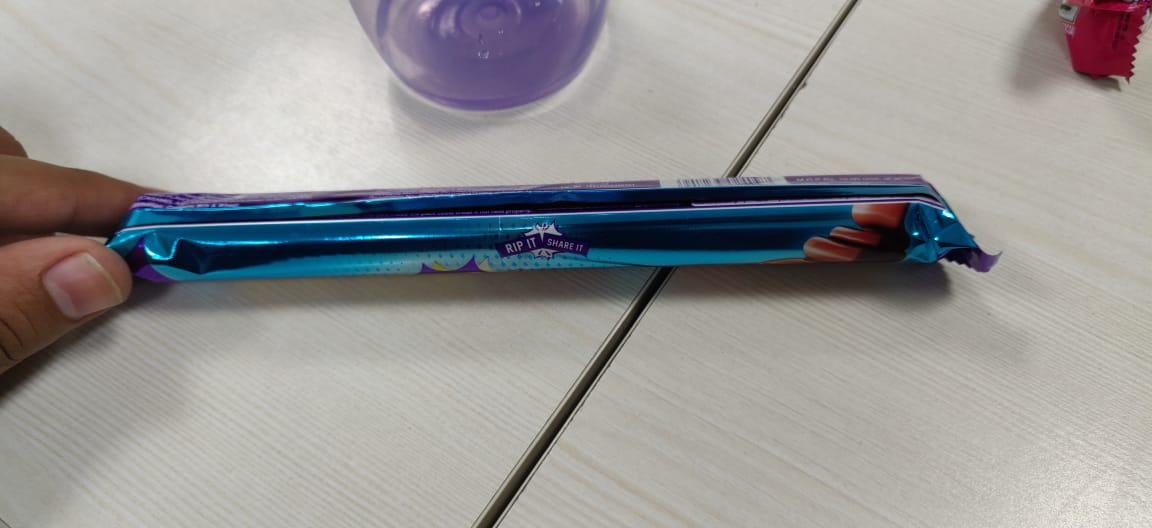perk: (100, 170, 1036, 300)
